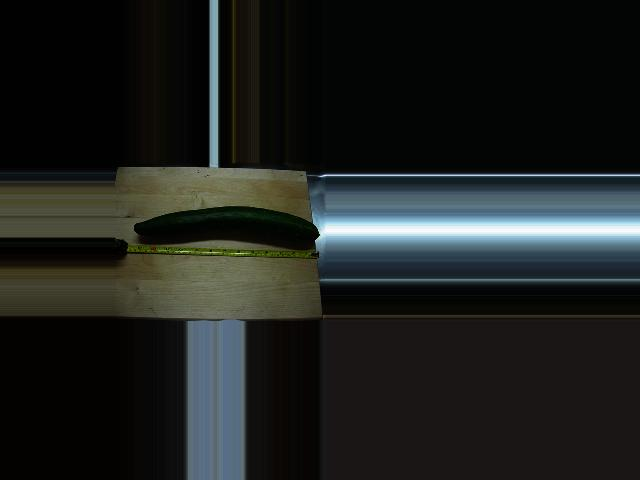cucumber: (133, 206, 319, 242)
